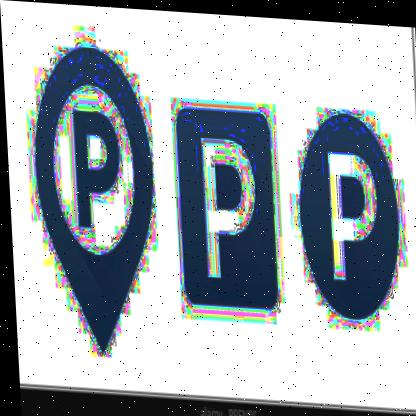Parking: (295, 102, 398, 312), (178, 106, 272, 306), (47, 85, 140, 260)
